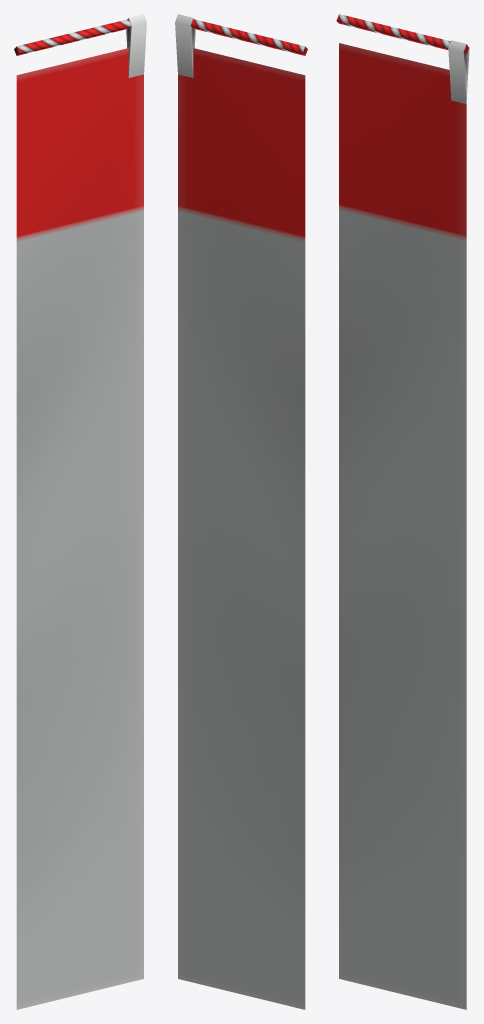
File: set_redandwhite_curtain_05.fbx
The picture shows the model from 3 angles, left to right: view 1: azimuth 30°, elevation 25°; view 2: azimuth 150°, elevation 25°; view 3: azimuth 330°, elevation 25°; orthographic projection.
Visible parts, largest first — view 1: set_redandwhite_curtain_05; view 2: set_redandwhite_curtain_05; view 3: set_redandwhite_curtain_05.
Boxes of the visible parts, bbox=[...] form: set_redandwhite_curtain_05: bbox=[14, 14, 146, 1009]; set_redandwhite_curtain_05: bbox=[175, 14, 307, 1009]; set_redandwhite_curtain_05: bbox=[336, 14, 469, 1009].
Size of the model in its own units: 25 by 181 by 2.01.
